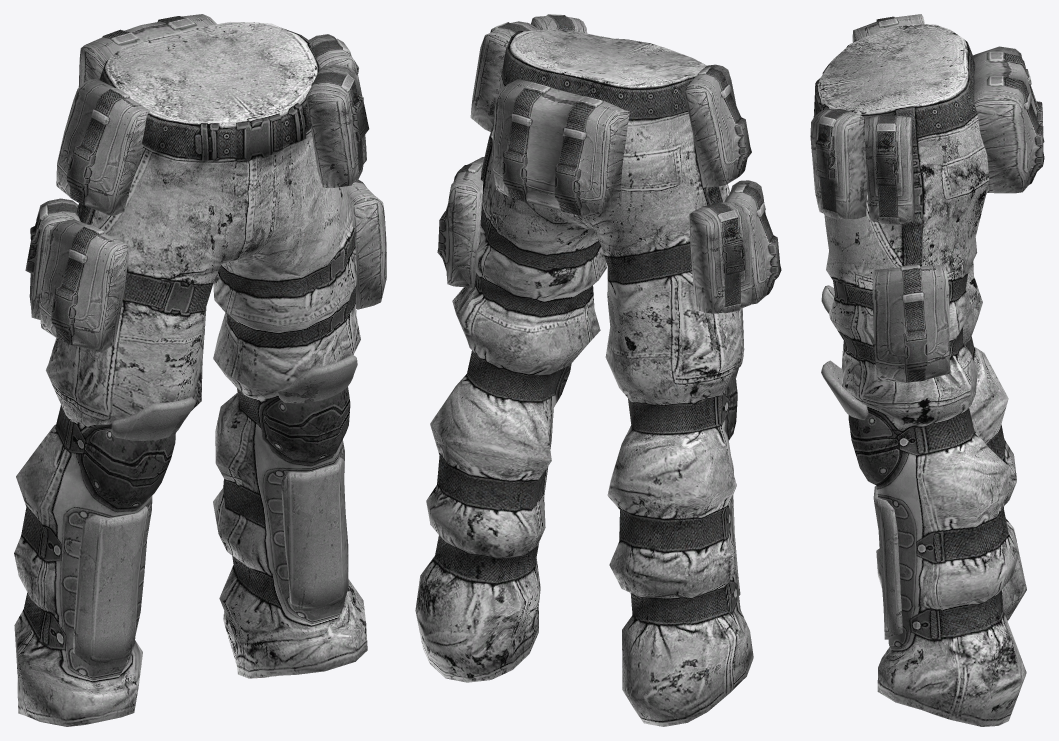
File: SurvivorMale_Legs_Pants_ParamilitaryRearPouch_LOD0.glb
The picture shows the model from 3 angles, left to right: view 1: azimuth 30°, elevation 25°; view 2: azimuth 150°, elevation 25°; view 3: azimuth 270°, elevation 25°; orthographic projection. The views are drawn at different scales.
Parts seen in each view (by area): view 1: Hoodie; view 2: Hoodie; view 3: Hoodie.
Boxes of the visible parts, bbox=[...] form: Hoodie: bbox=[14, 14, 386, 726]; Hoodie: bbox=[415, 14, 781, 726]; Hoodie: bbox=[810, 14, 1044, 726].
Bounding box in the file's own units: 0.5714 × 1.05 × 0.3663.
Materials: 1 (1 with a texture image).
